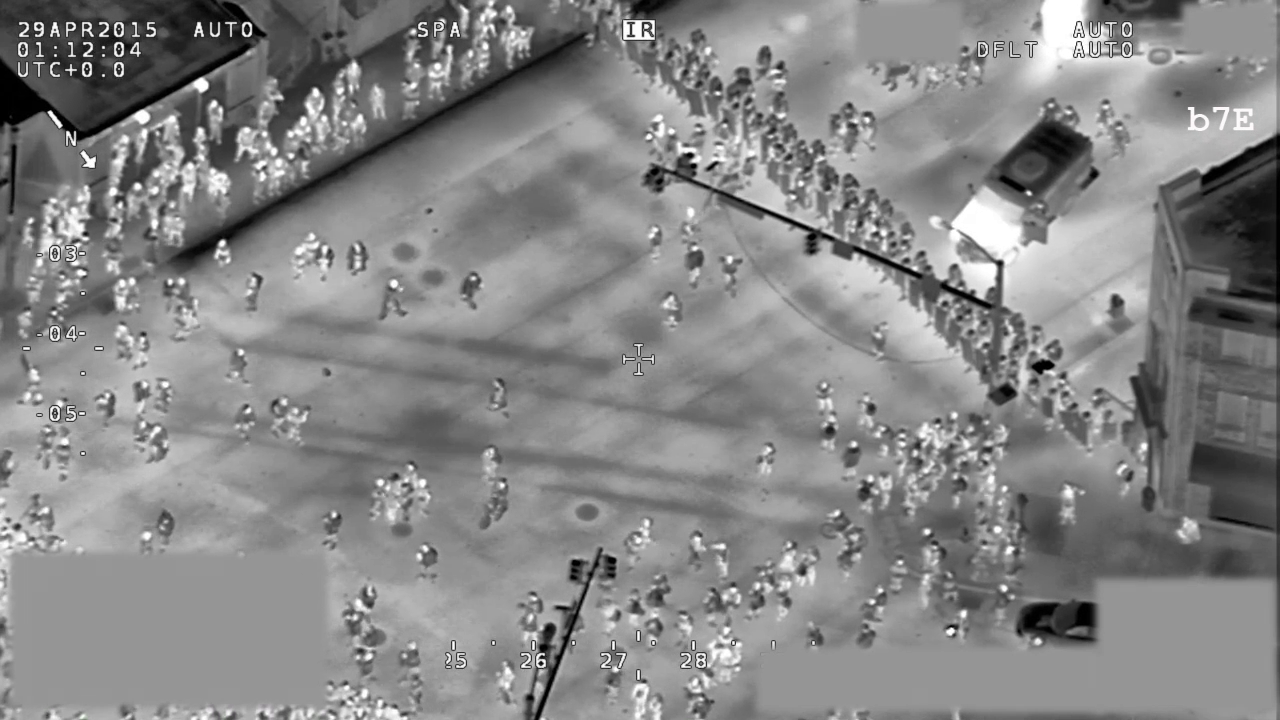vehicle: (945, 115, 1104, 271), (1038, 1, 1209, 62), (1007, 598, 1099, 648)
